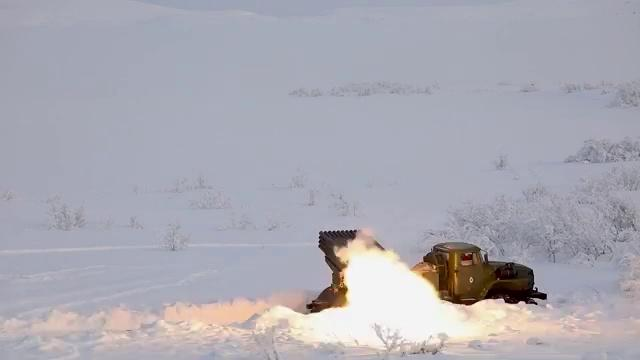MIL_SAM_TEL: (305, 227, 536, 304)
